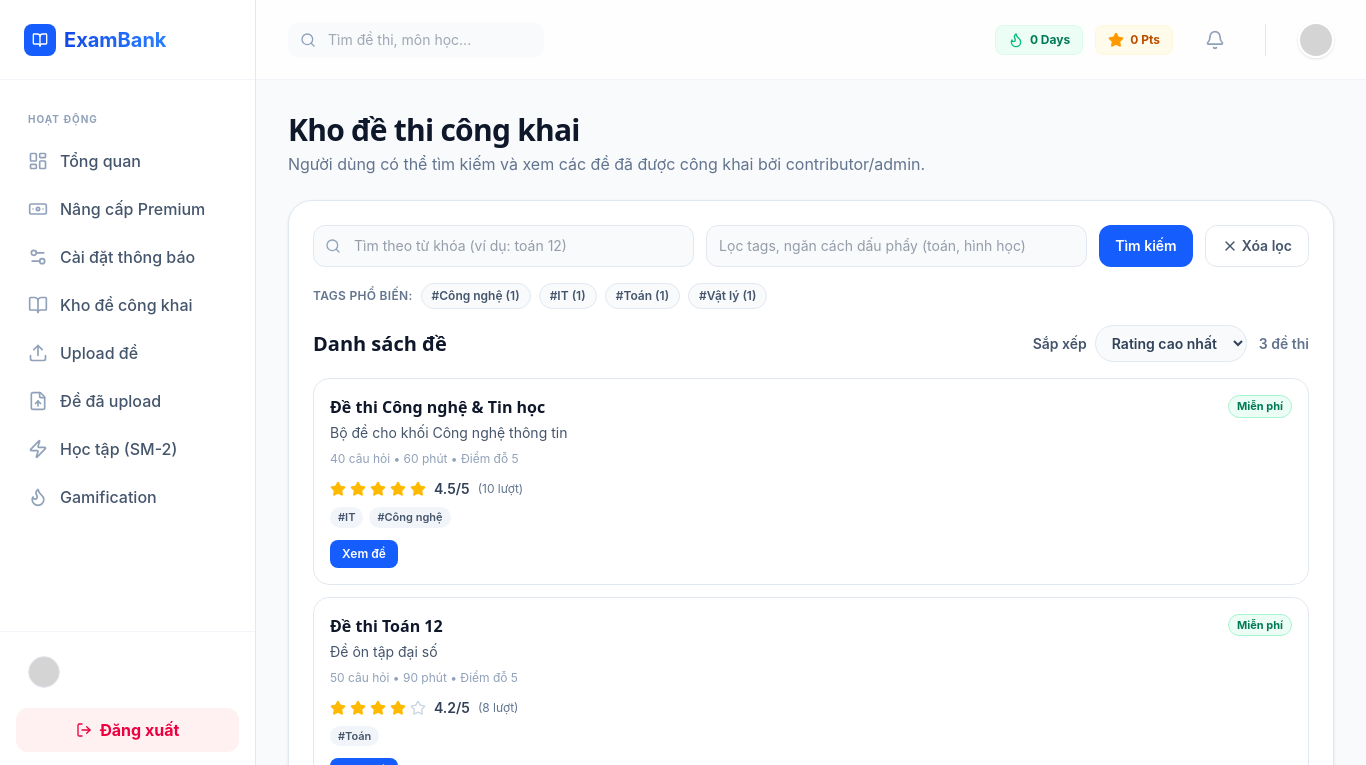
PublicExams › resets filters back to full exam list
This screenshot has width=1366, height=765.
Check: the heading "Đề thi Công nghệ & Tin học" is shown, box left=330, top=395, right=545, bottom=419
In the field with placeholder "Tìm theo từ khóa (ví dụ: toán 12)": [504, 246] box left=313, top=225, right=694, bottom=267, type "công nghệ"
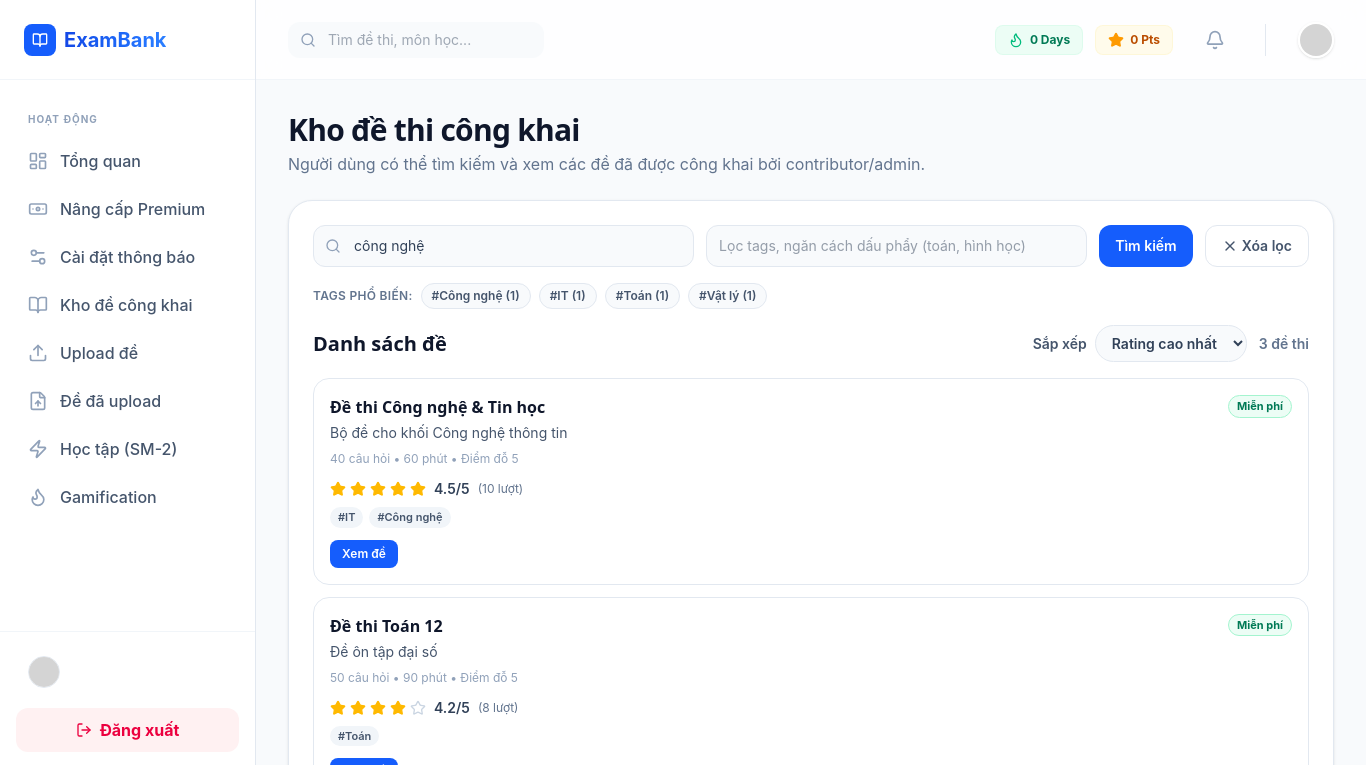
Click the button "Tìm kiếm": [1146, 246] box left=1099, top=225, right=1193, bottom=267
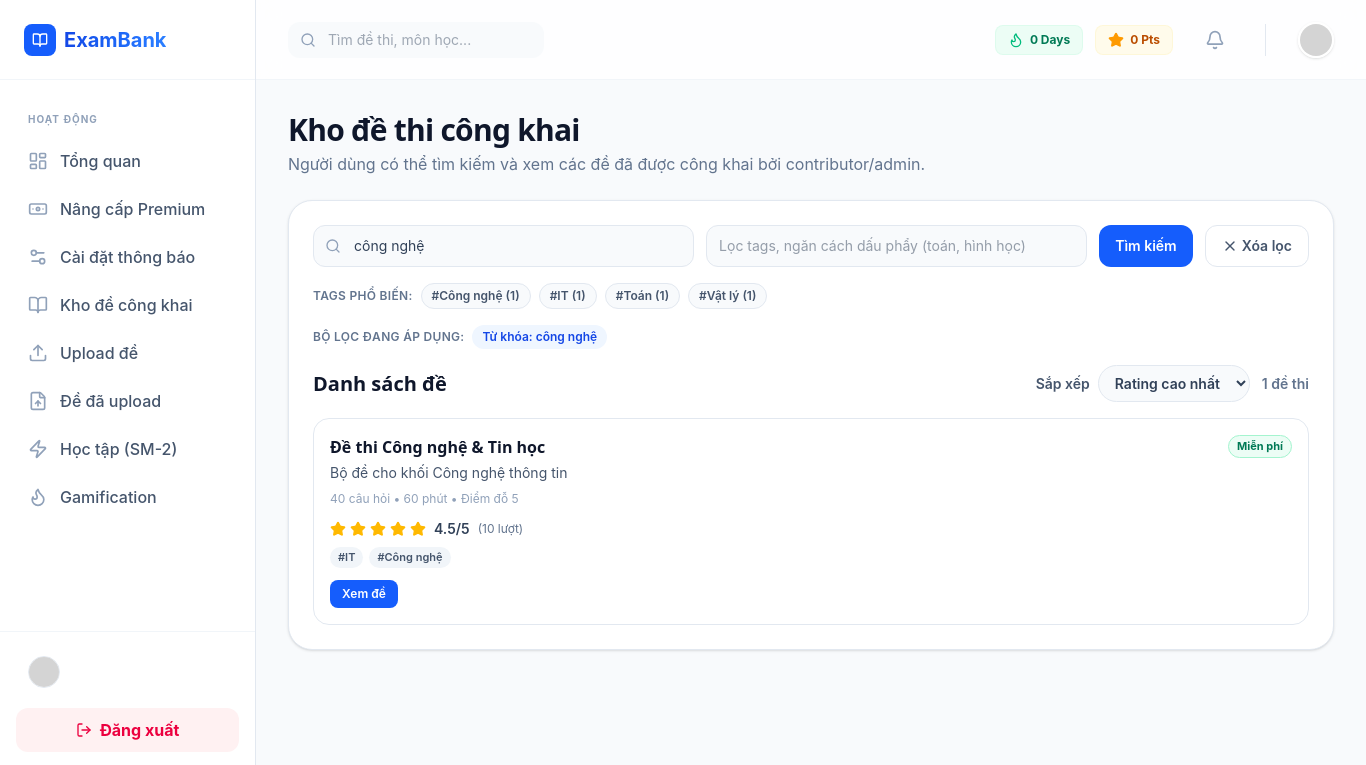
Check: the text "1 đề thi" is shown, box left=1262, top=374, right=1309, bottom=394
Click the button "Xóa lọc": [1257, 246] box left=1205, top=225, right=1309, bottom=267
(page scrolled)
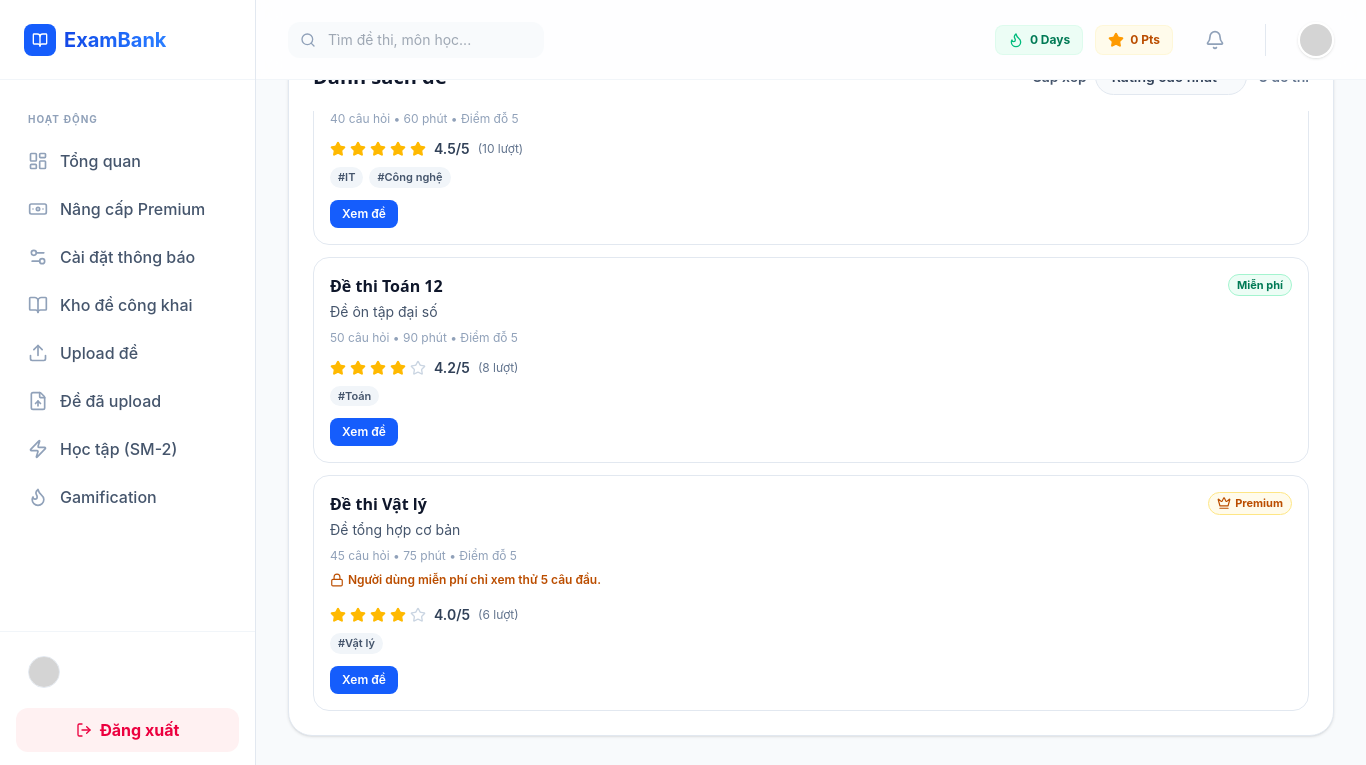
Check: the heading "Đề thi Toán 12" is shown, box left=330, top=274, right=443, bottom=298
Check: the heading "Đề thi Vật lý" is shown, box left=330, top=492, right=427, bottom=516
